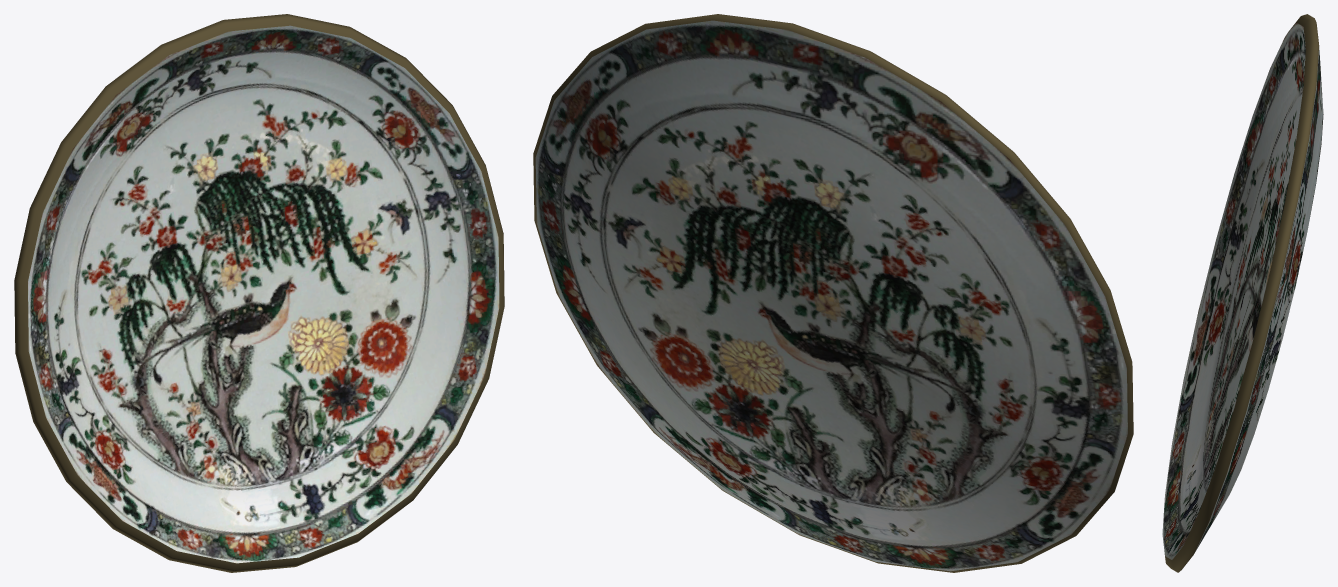
File: Plate1.c.fbx
3 views of the same model, side by side, from view 1: azimuth 30°, elevation 25°; view 2: azimuth 150°, elevation 25°; view 3: azimuth 270°, elevation 25° (orthographic). The views are drawn at different scales.
Visible parts, largest first — view 1: Group 0; view 2: Group 0; view 3: Group 0.
Part boxes in pixels (<box>): Group 0: <box>14,14,504,572</box>; Group 0: <box>533,14,1133,572</box>; Group 0: <box>1162,14,1323,572</box>.
Bounding box in the file's own units: 26.86 × 25.94 × 7.5.
1 material, 1 textured.
